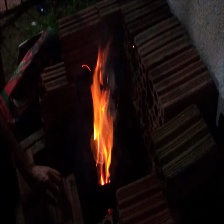fire: (89, 46, 119, 188)
